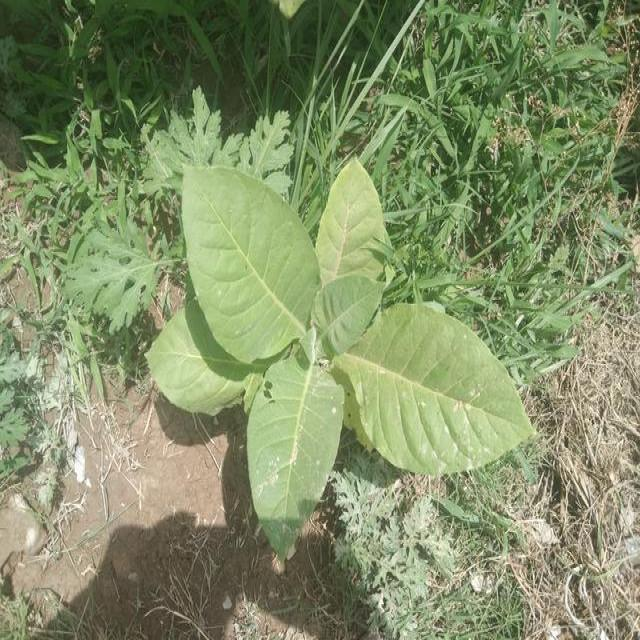crop: (158, 179, 532, 529)
